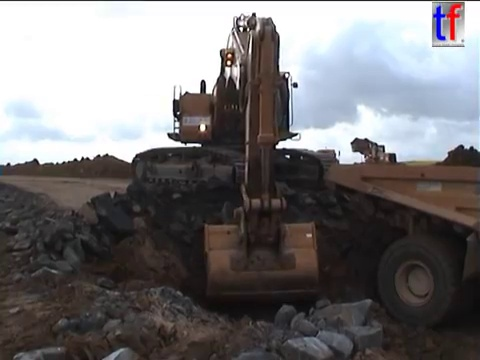excavator: (128, 10, 344, 311)
truck: (322, 161, 480, 332)
wheel loader: (348, 136, 400, 174)
